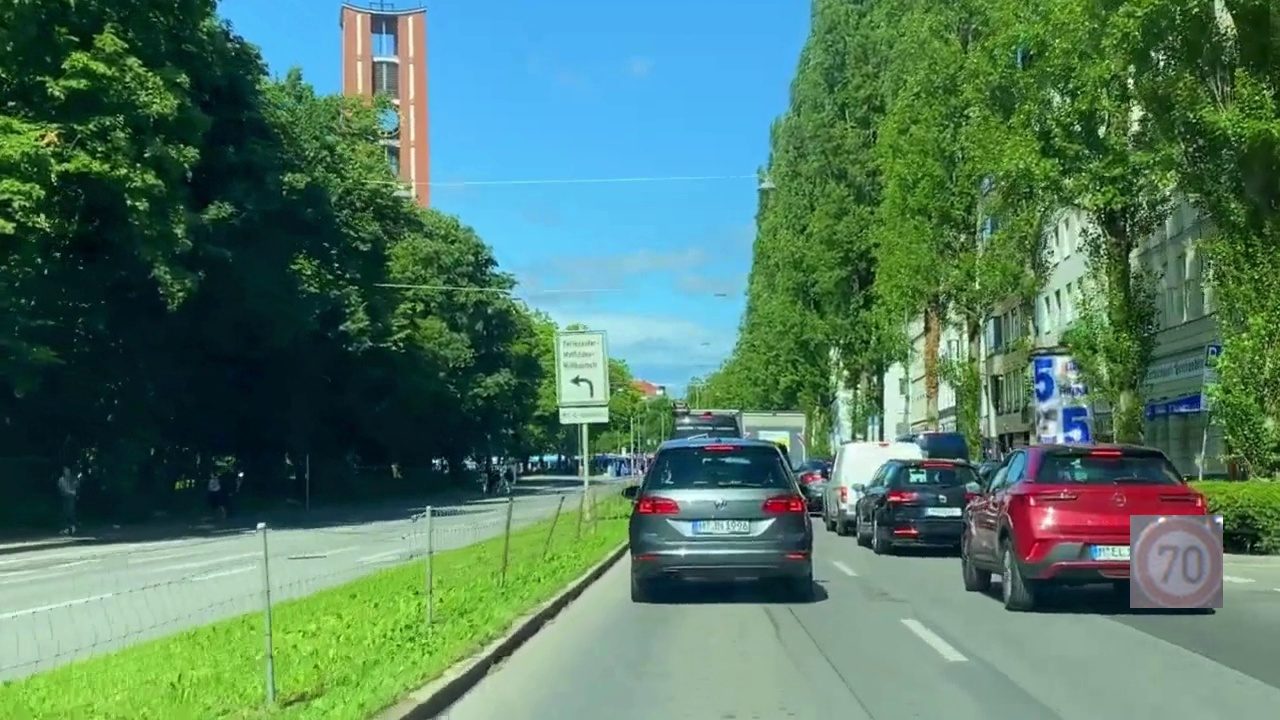Speed 70: (1130, 515, 1223, 608)
